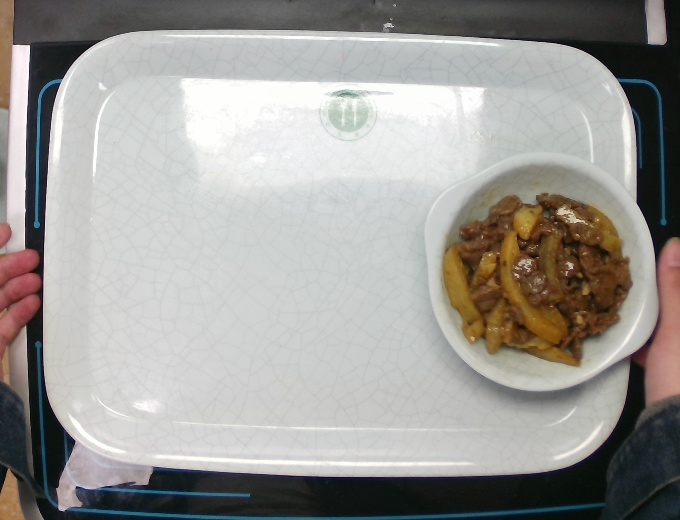JYsf-Shuang_Er_Wan: (402, 140, 672, 407)
